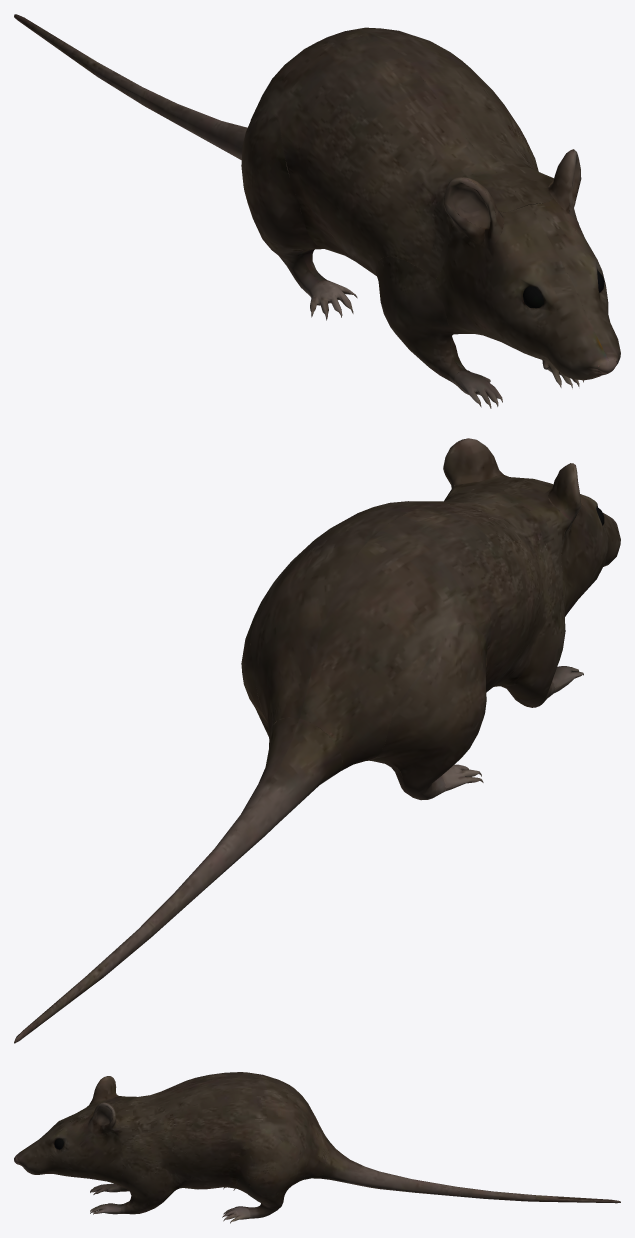
File: street_rat.glb
The picture shows the model from 3 angles, top to bottom: view 1: azimuth 30°, elevation 25°; view 2: azimuth 150°, elevation 25°; view 3: azimuth 270°, elevation 25°; orthographic projection. The views are drawn at different scales.
Parts seen in each view (by area): view 1: street_rat; view 2: street_rat; view 3: street_rat.
Boxes of the visible parts, bbox=[...] form: street_rat: bbox=[14, 14, 620, 408]; street_rat: bbox=[14, 438, 620, 1043]; street_rat: bbox=[14, 1072, 620, 1223].
Size of the model in its own units: 0.032 by 0.0339 by 0.1483.
1 material, 1 textured.
